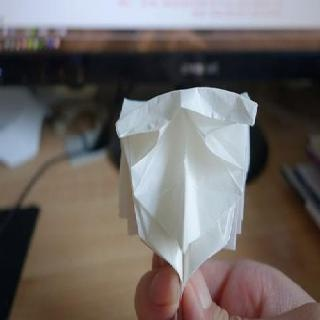8/可回收垃圾/纸: (114, 86, 258, 288)
